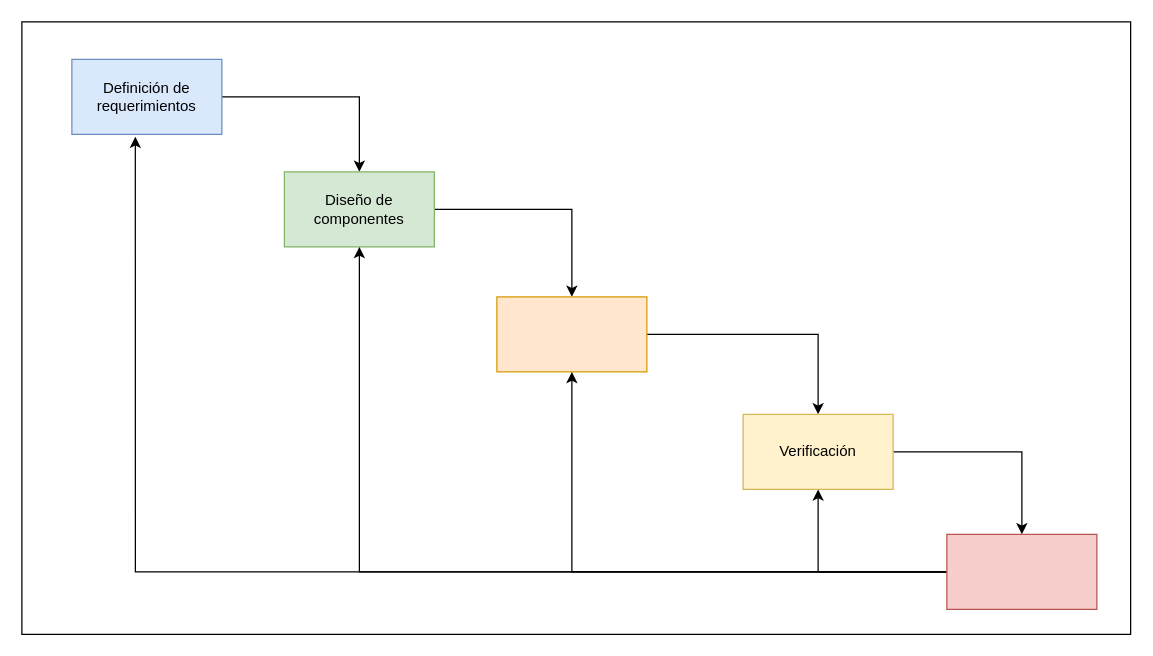
The diagram is 1153 pixels wide and 656 high, and some of its shapes have lost their labels. The centre of each missing label's shape, as x and y in pixels:
Implementación: the point at 571,334
Mantenimiento: the point at 1021,571
